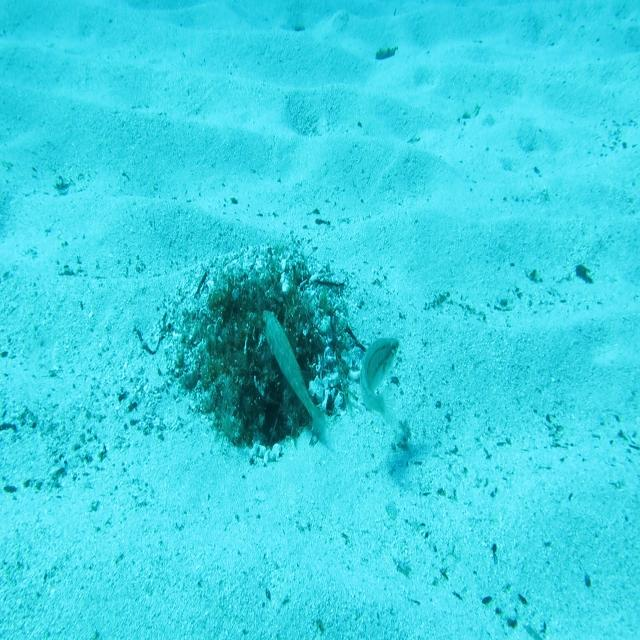FAN: (258, 303, 330, 449)
core_nest: (235, 293, 286, 329)
female: (358, 332, 402, 437)
nest: (150, 223, 365, 477)
vegetation: (374, 46, 398, 61)
